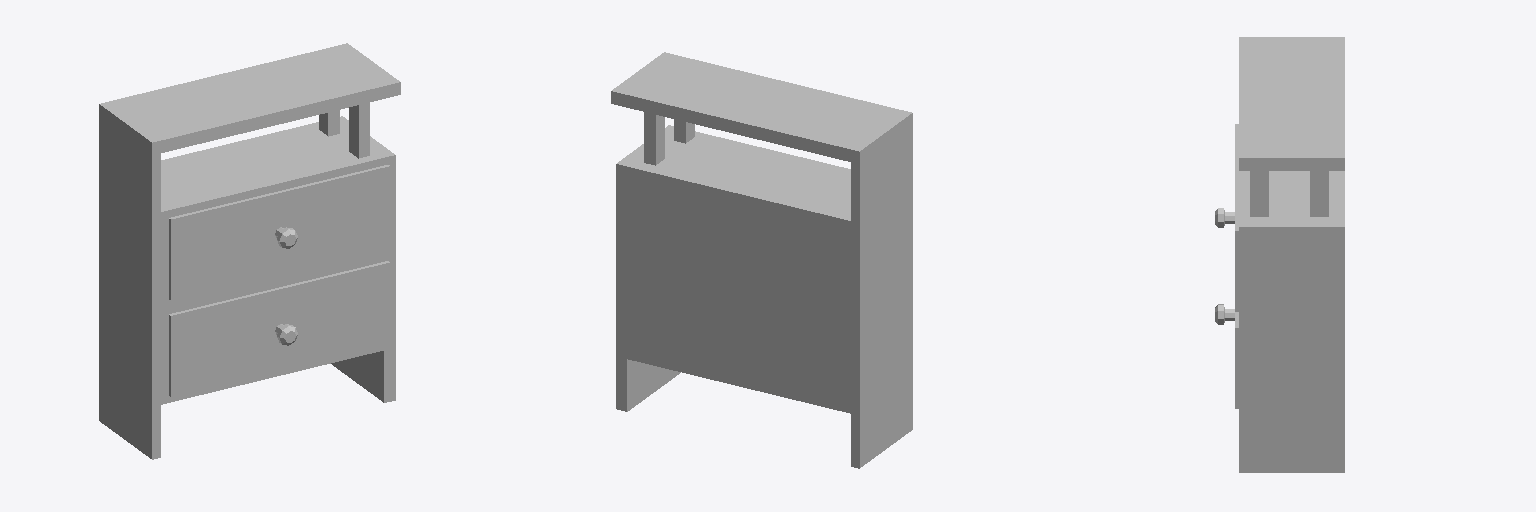
Rendered from coffeetable.obj.
The picture shows the model from 3 angles: view 1: azimuth 30°, elevation 25°; view 2: azimuth 150°, elevation 25°; view 3: azimuth 270°, elevation 25°; orthographic projection.
Parts seen in each view (by area): view 1: polySurface1; view 2: polySurface1; view 3: polySurface1.
Part boxes in pixels (bbox=[...]): polySurface1: bbox=[99, 43, 400, 459]; polySurface1: bbox=[611, 52, 912, 468]; polySurface1: bbox=[1215, 37, 1344, 472].
Bounding box in the file's own units: 4.92 × 5.99 × 2.24.